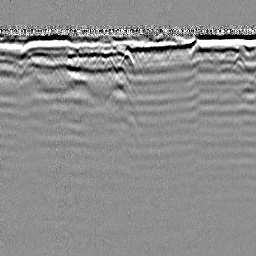cavity: (119, 48, 134, 68)
